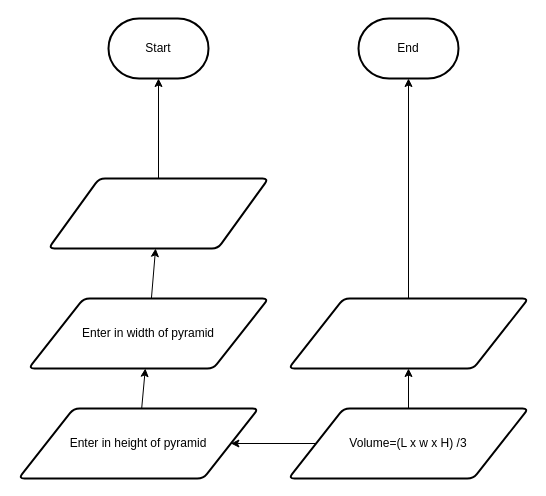
Image size: 546x496. Some labels were removed from this diagram. Each missing label, with the centre of its shape:
"Enter in length of pyramid" belongs at point 158,213.
"Get Volume" belongs at point 408,333.
